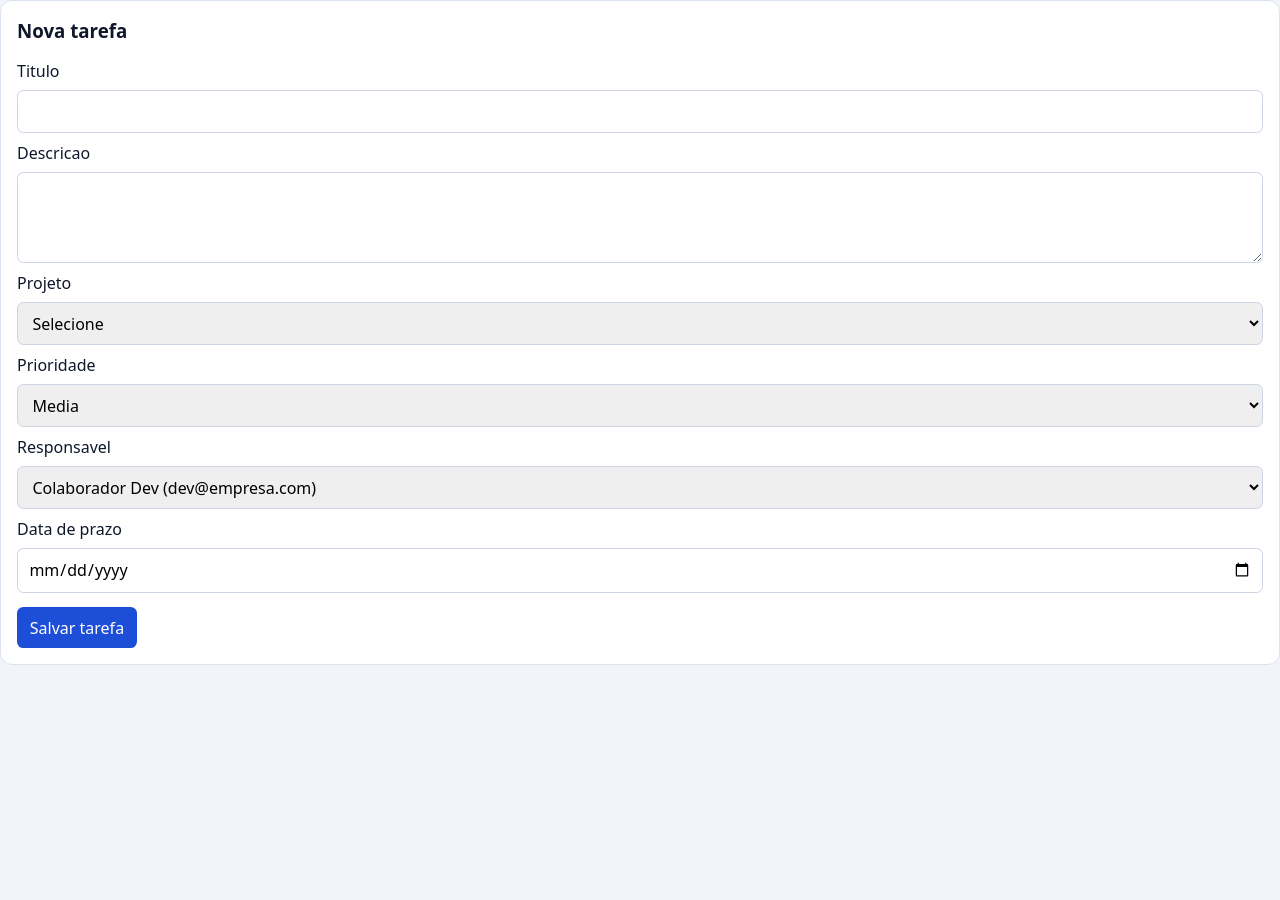
FormularioTarefa › deve validar prazo obrigatorio antes de enviar
This screenshot has width=1280, height=900.
Type "Tarefa com prazo invalido" into the field labelled "Titulo" at (640, 112), box [17, 90, 1263, 133]
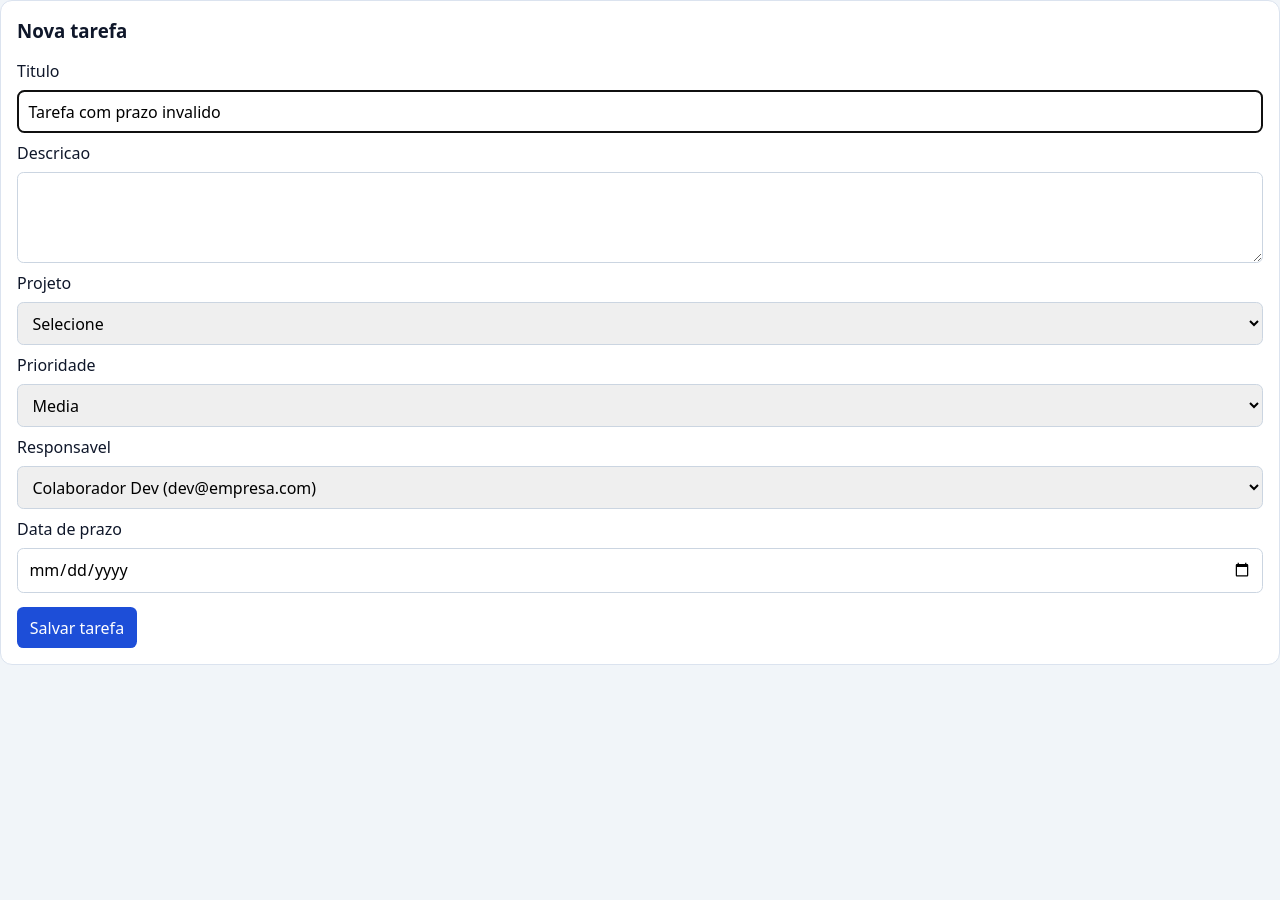
Select "Projeto Plataforma (Desenvolvimento)" in the dropdown labelled "Projeto" at (640, 324), box [17, 302, 1263, 345]
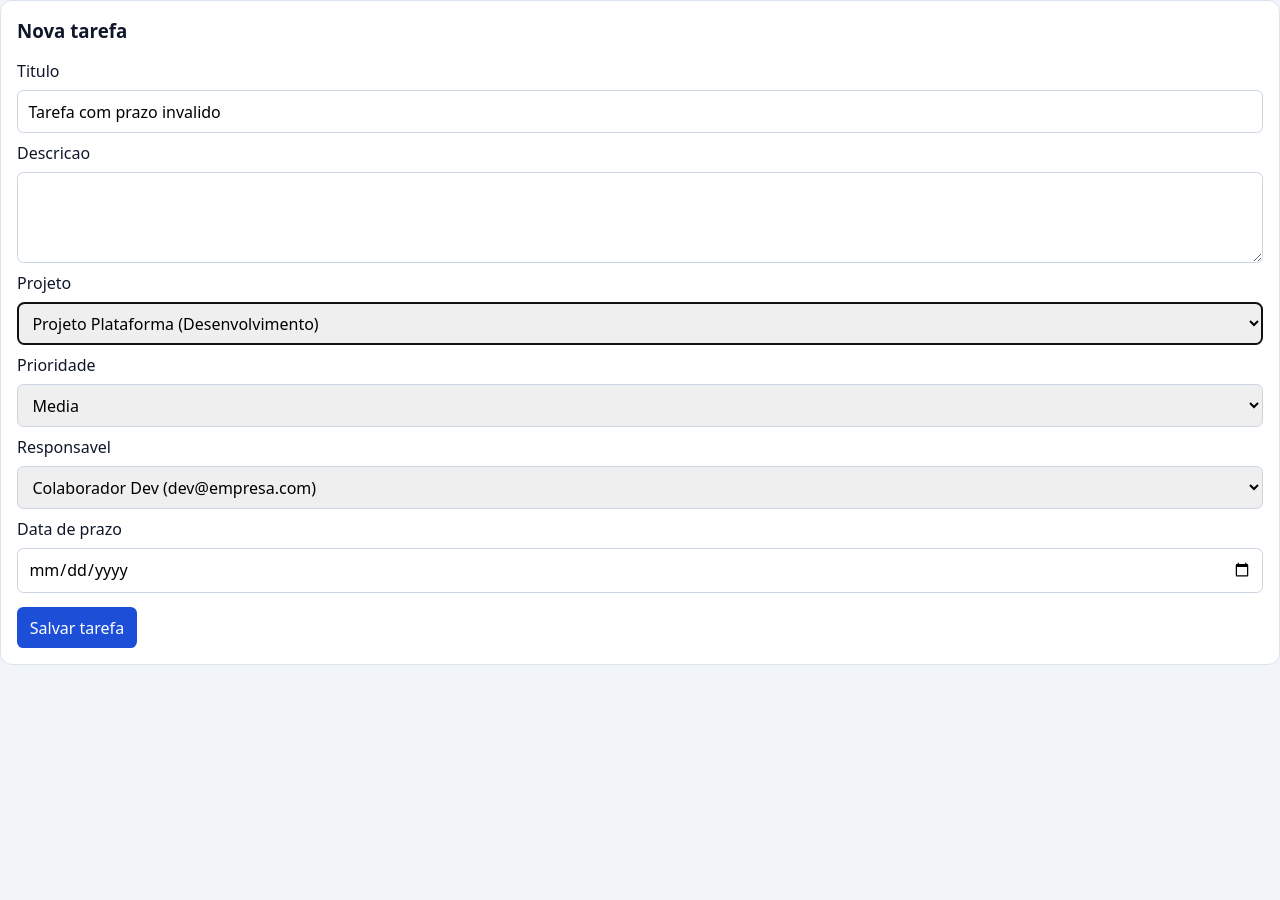
Select "Colaborador Dev (dev@empresa.com)" in the dropdown labelled "Responsavel" at (640, 488), box [17, 466, 1263, 509]
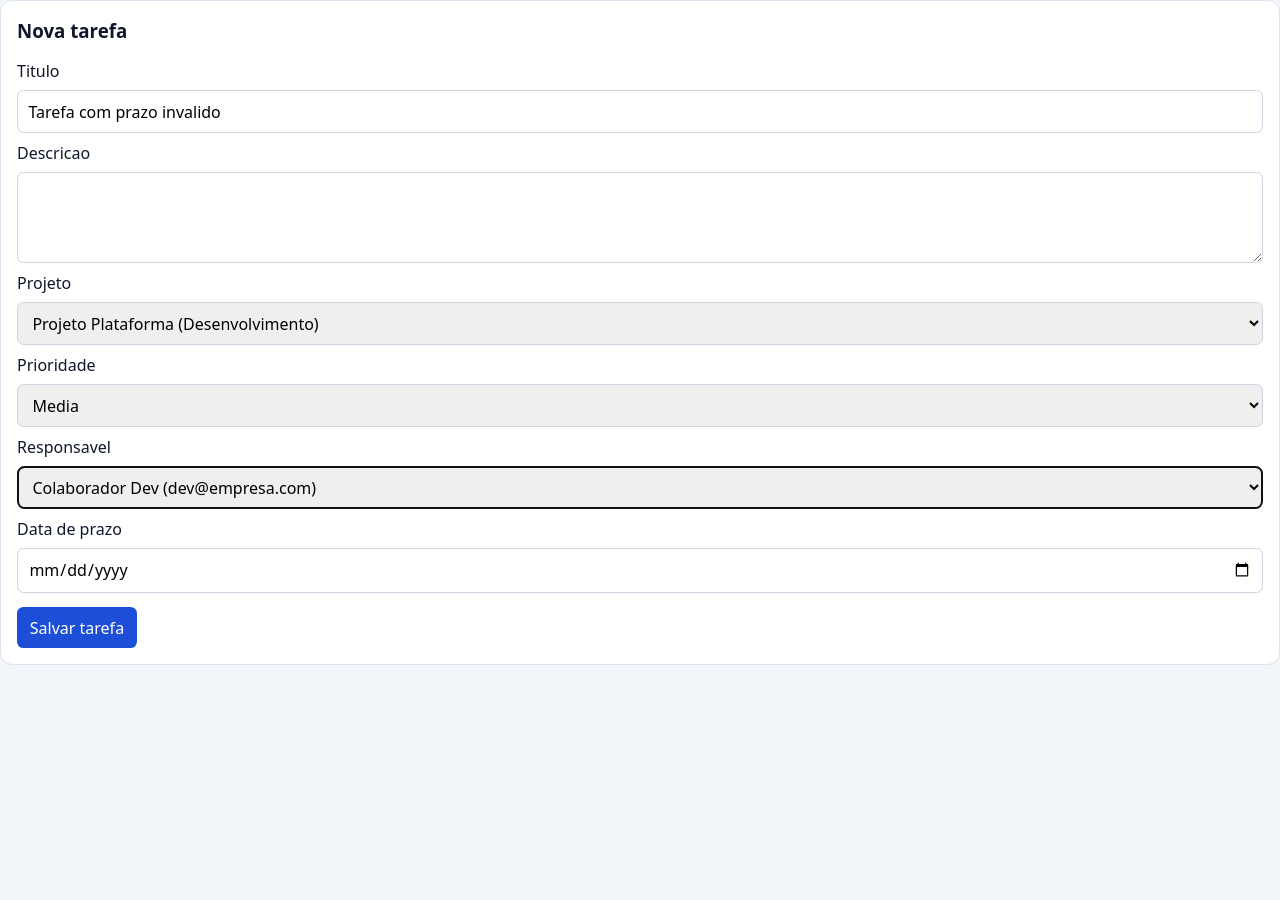
Click the button "Salvar tarefa" at (77, 628), box [17, 607, 137, 648]
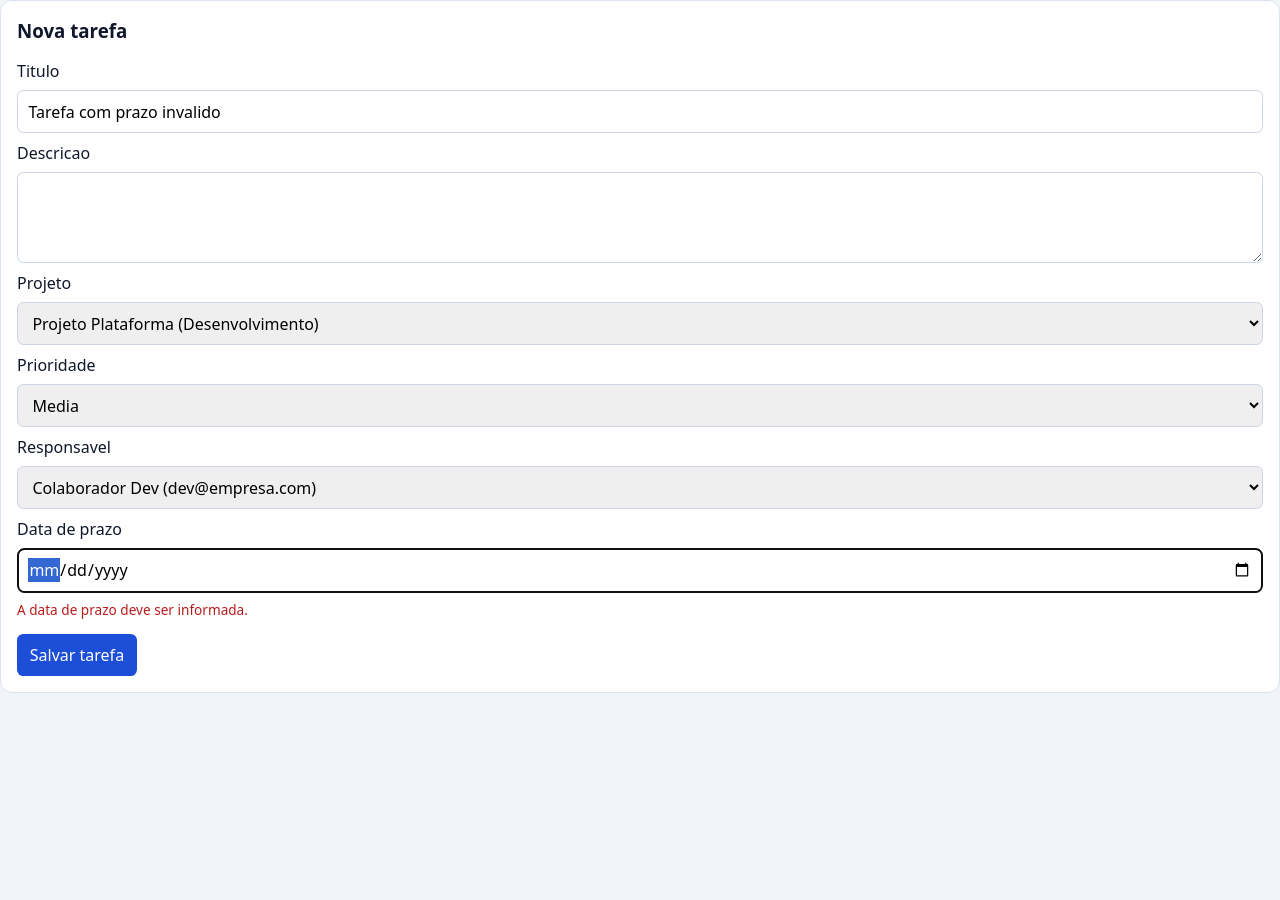
Expected: the text "A data de prazo deve ser informada." is shown, [17, 600, 248, 620]
